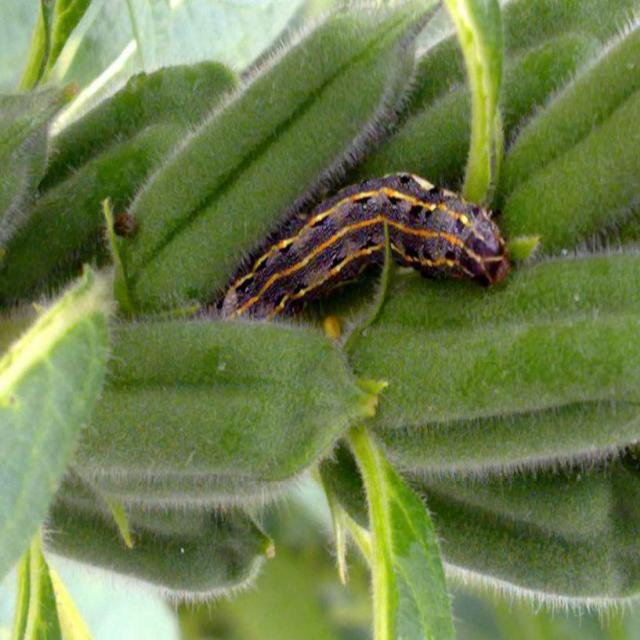BeetArmyWorm-Larva-: (207, 162, 510, 336)
